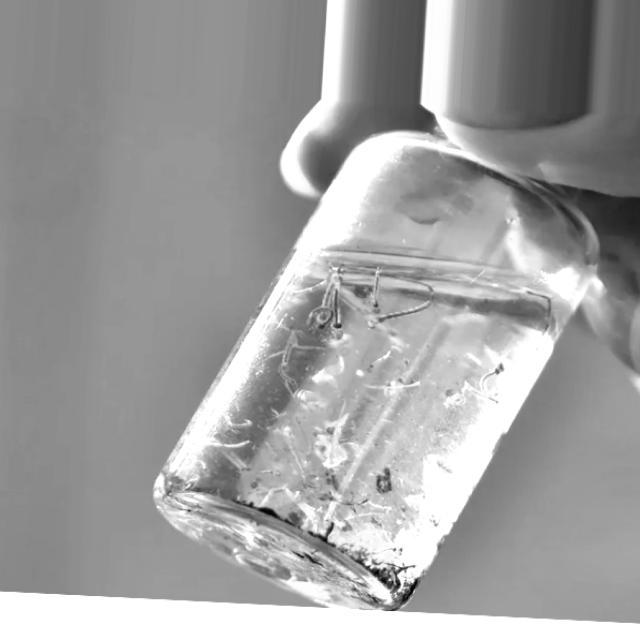larvas: (370, 286, 437, 339), (524, 286, 556, 330), (342, 288, 371, 321), (320, 273, 340, 313), (478, 363, 504, 389), (466, 385, 498, 404), (290, 281, 326, 297), (332, 286, 342, 338), (304, 304, 318, 338), (374, 271, 382, 308), (446, 391, 463, 408), (319, 307, 331, 329)
